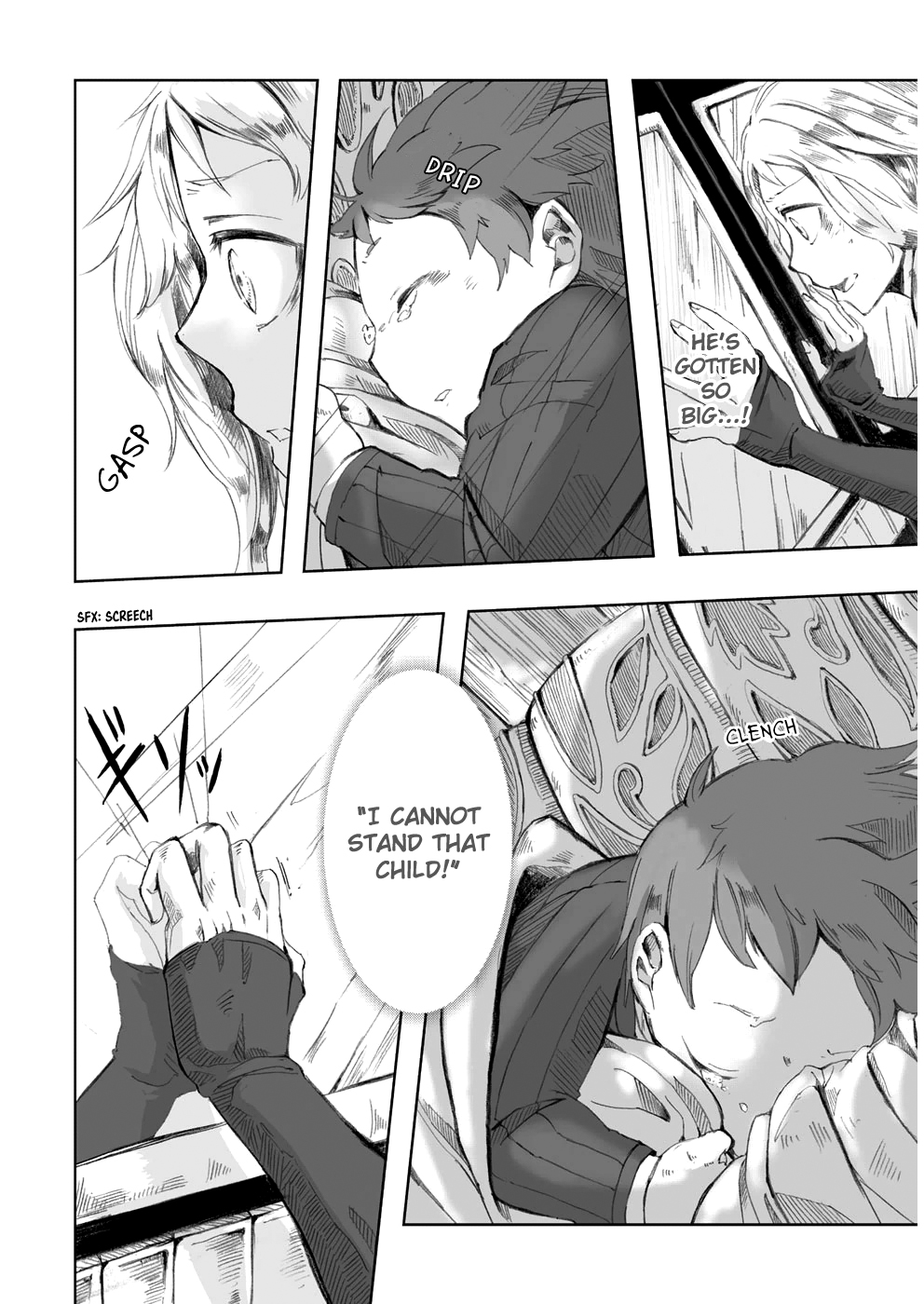bubble: (319, 664, 516, 1017)
